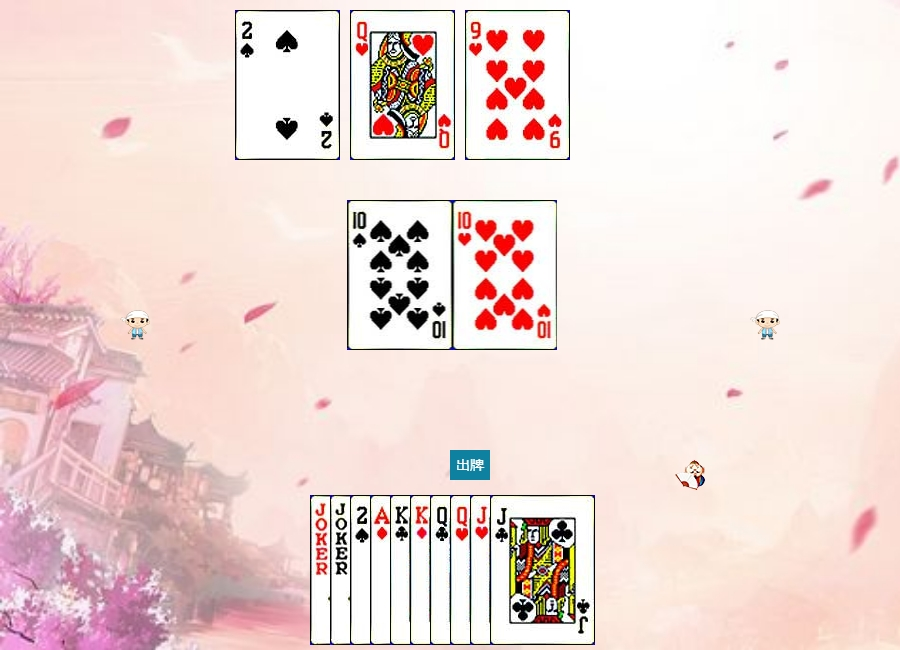10~3: (453, 200, 558, 350)
10~4: (348, 200, 453, 350)
11~2: (490, 495, 595, 645)
11~3: (470, 495, 575, 645)
12~2: (430, 495, 535, 645)
12~3: (350, 10, 455, 160), (450, 495, 555, 645)
13~1: (410, 495, 515, 645)
13~2: (390, 495, 495, 645)
14~1: (370, 495, 475, 645)
15~4: (235, 10, 340, 160), (350, 495, 455, 645)
17~3: (330, 495, 435, 645)
18~4: (310, 495, 415, 645)
9~3: (465, 10, 570, 160)
